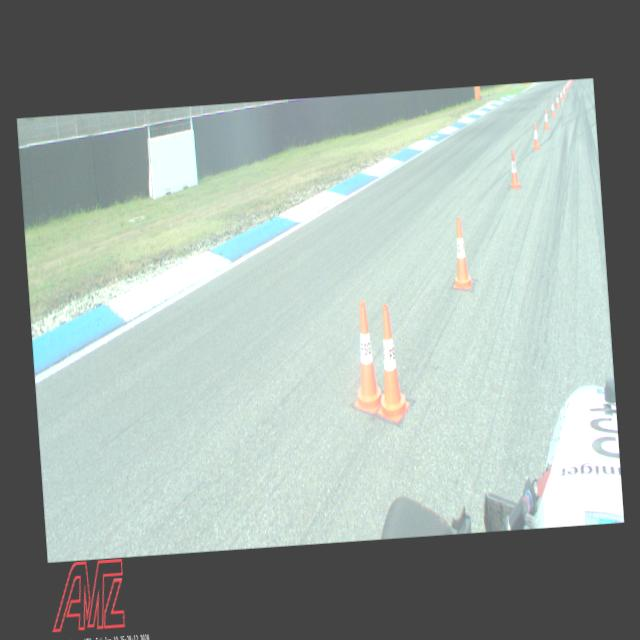orange_cone: (369, 304, 410, 423), (347, 300, 382, 414), (448, 217, 473, 290), (508, 148, 520, 188), (531, 122, 539, 150), (542, 108, 549, 128), (550, 100, 556, 116), (556, 94, 560, 108), (560, 88, 562, 102)
